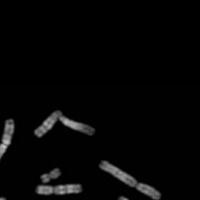chromosome: (96, 157, 162, 200), (31, 108, 97, 139), (0, 116, 15, 171), (35, 183, 84, 196), (39, 168, 63, 183), (117, 194, 135, 200), (0, 195, 5, 200)
